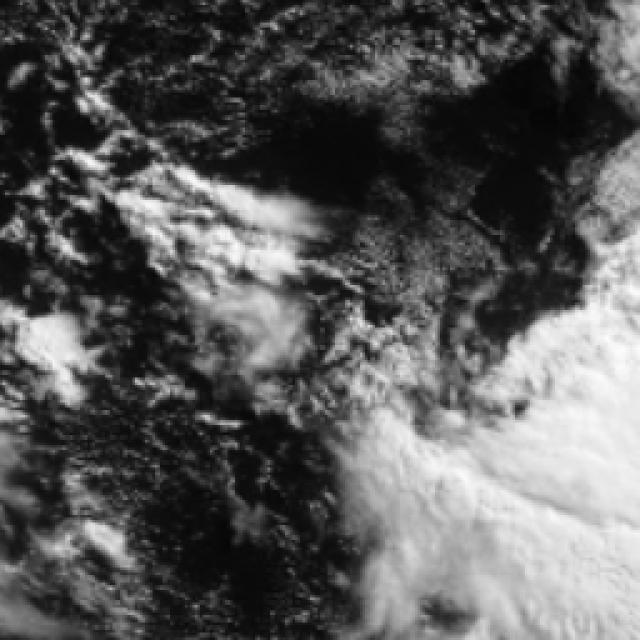CB: (457, 476, 640, 600), (550, 328, 640, 533)
